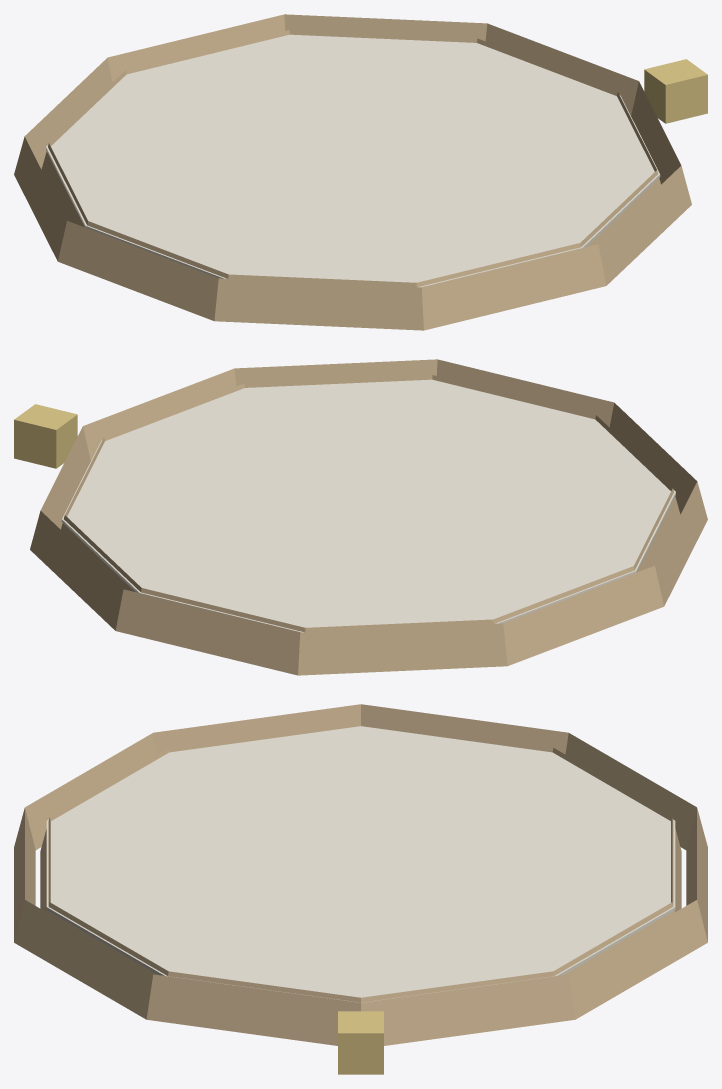
File: prop-embroidery-hoop.fbx
3 views of the same model, one above another, from view 1: azimuth 30°, elevation 25°; view 2: azimuth 150°, elevation 25°; view 3: azimuth 270°, elevation 25° (orthographic). The views are drawn at different scales.
Visible parts, largest first — view 1: prop-embroidery-hoop; view 2: prop-embroidery-hoop; view 3: prop-embroidery-hoop.
Part boxes in pixels (x1,y1,x2,y2): prop-embroidery-hoop: (14, 14, 707, 330); prop-embroidery-hoop: (14, 359, 707, 675); prop-embroidery-hoop: (14, 704, 707, 1074).
Bounding box in the file's own units: 24.15 × 1.4 × 21.21.
